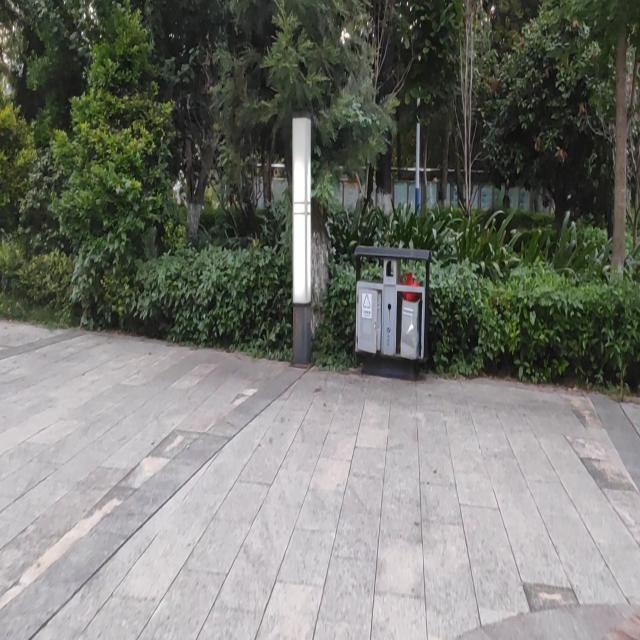ash bin: (351, 243, 431, 378)
pole: (414, 122, 421, 207)
